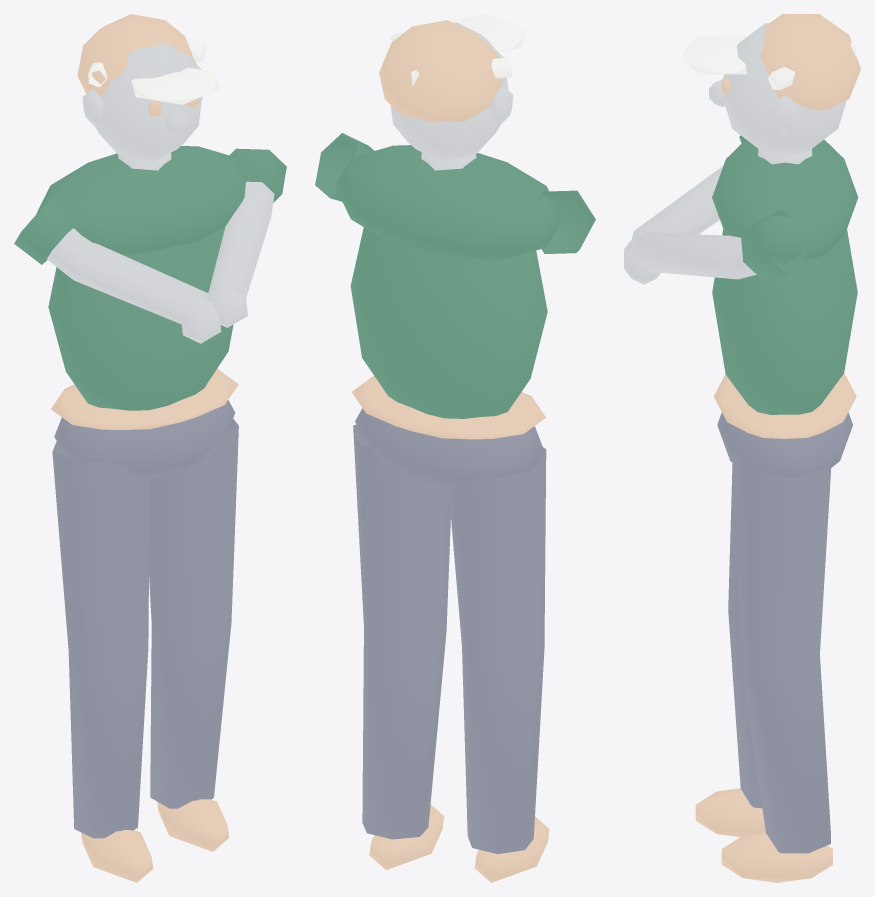
Rendered from Blender_Spectator_4.glb.
3 renders of one model, left to right at view 1: azimuth 30°, elevation 25°; view 2: azimuth 150°, elevation 25°; view 3: azimuth 270°, elevation 25°, orthographic. The views are drawn at different scales.
Visible parts, largest first — view 1: Blender_Spectator_4; view 2: Blender_Spectator_4; view 3: Blender_Spectator_4.
Boxes of the visible parts, <box> form: Blender_Spectator_4: <box>14,14,286,882</box>; Blender_Spectator_4: <box>315,14,595,882</box>; Blender_Spectator_4: <box>624,14,860,882</box>.
Size of the model in its own units: 0.5977 by 1.78 by 0.4533.
